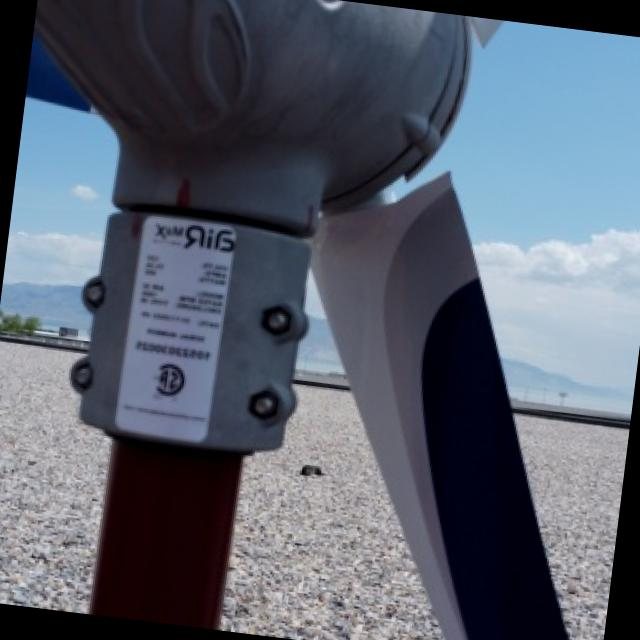healthy: (97, 437, 245, 628)
